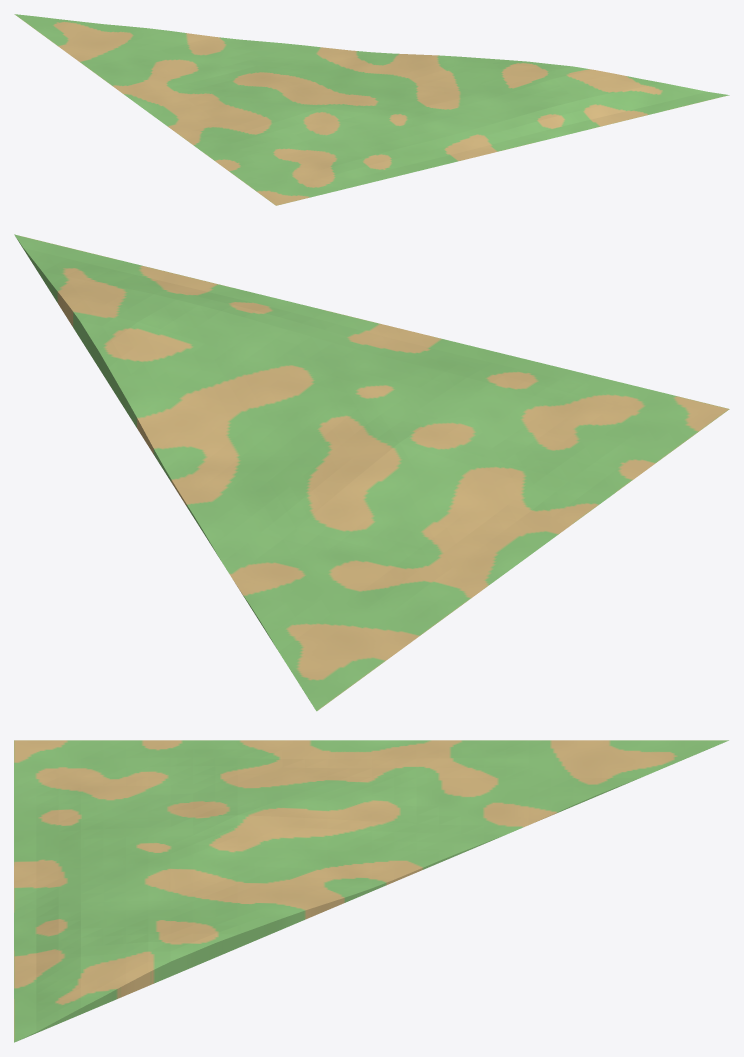
The model's file is Grass_Flat_04_NW.obj.
The picture shows the model from 3 angles, top to bottom: view 1: azimuth 30°, elevation 25°; view 2: azimuth 150°, elevation 25°; view 3: azimuth 270°, elevation 25°; orthographic projection. The views are drawn at different scales.
Size of the model in its own units: 10 by 0.2421 by 10.
1 material, 1 textured.
